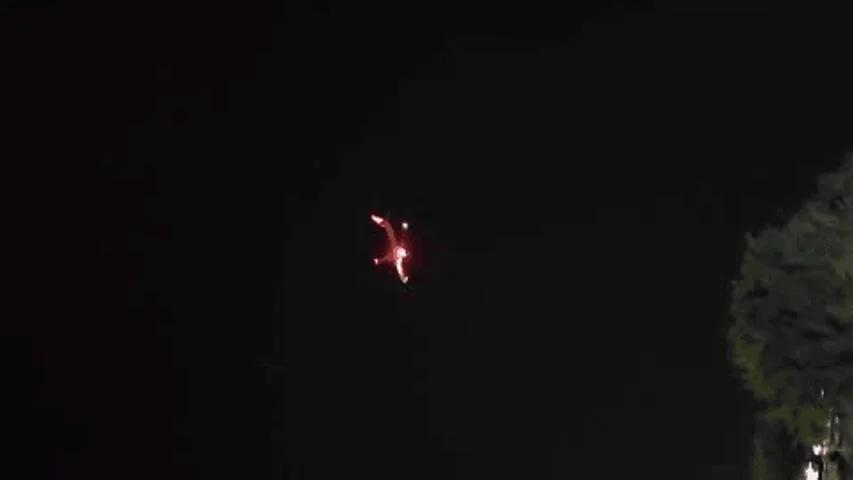Plane: (320, 180, 469, 310)
